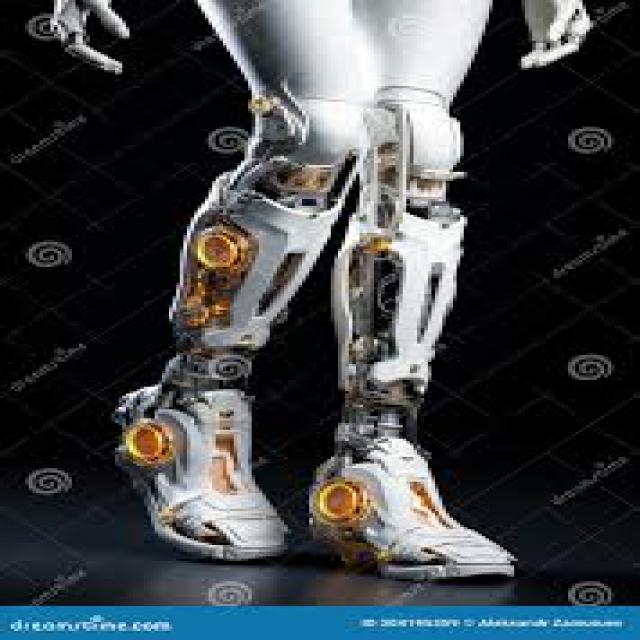humanoid-leg: (115, 138, 348, 562), (316, 135, 517, 583)
